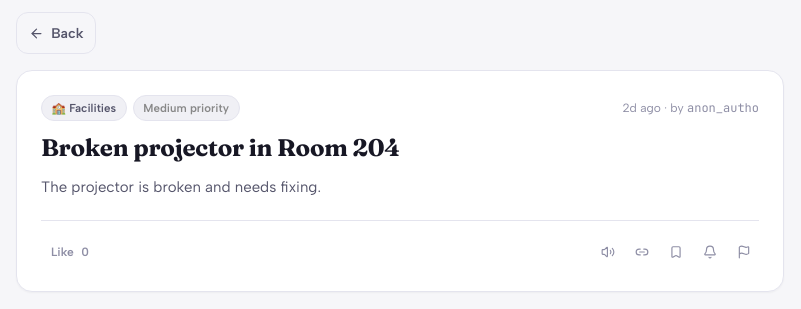
PostDetail — copy link and bookmark › copies the current URL to the clipboard and toasts
The image size is (801, 309).
Check: the heading "Broken projector in Room 204" is shown, box 41,134 -> 400,162
Click the button titled "Copy link" at (642,252), box 627,237 -> 657,267
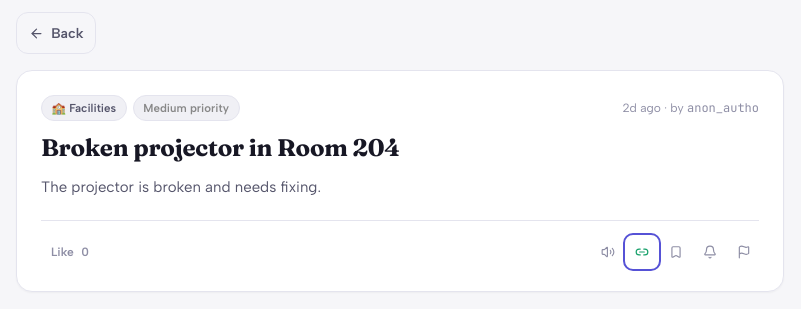
Check: the button titled "Copied!" is shown, box 627,237 -> 657,267
